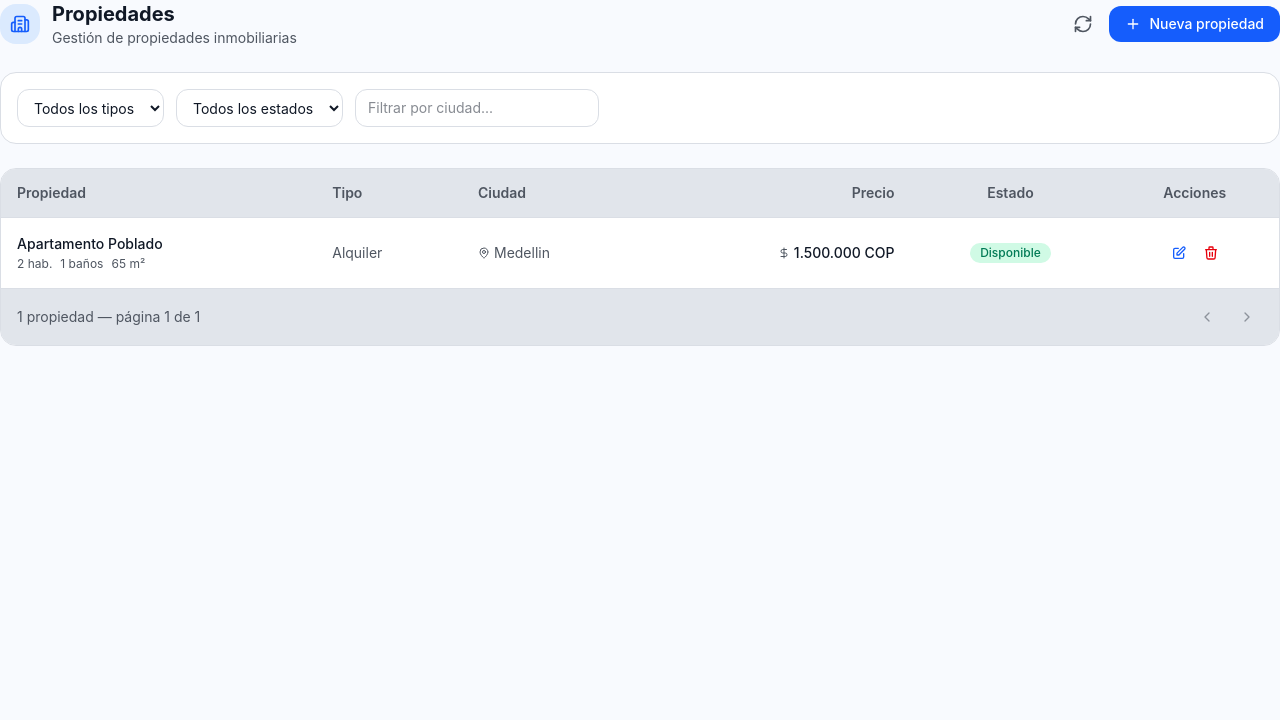
AdminPropertiesPage — integration › should open the create modal when clicking add button
# The button in the toolbar (not the modal header)
Click the button "Nueva propiedad" at (1195,24), box [1110,6,1279,42]
(page scrolled)
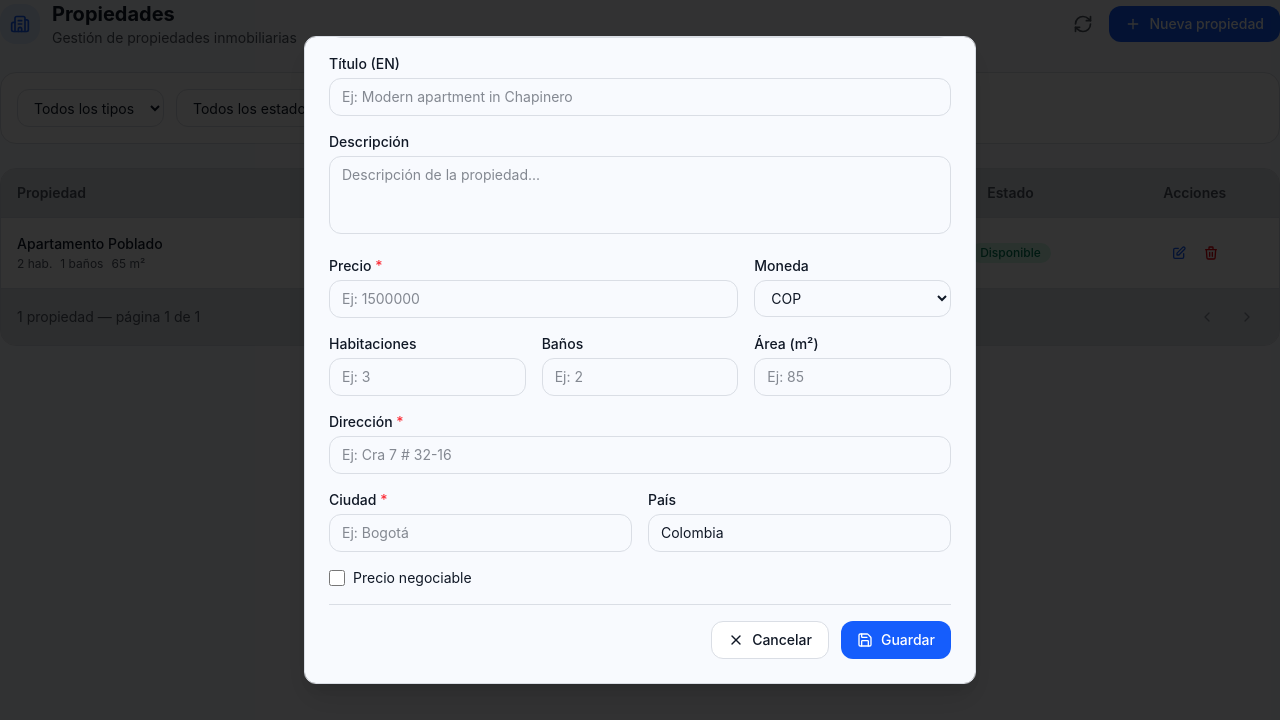
Result: the button "Guardar" is shown at [841,621,951,659]
